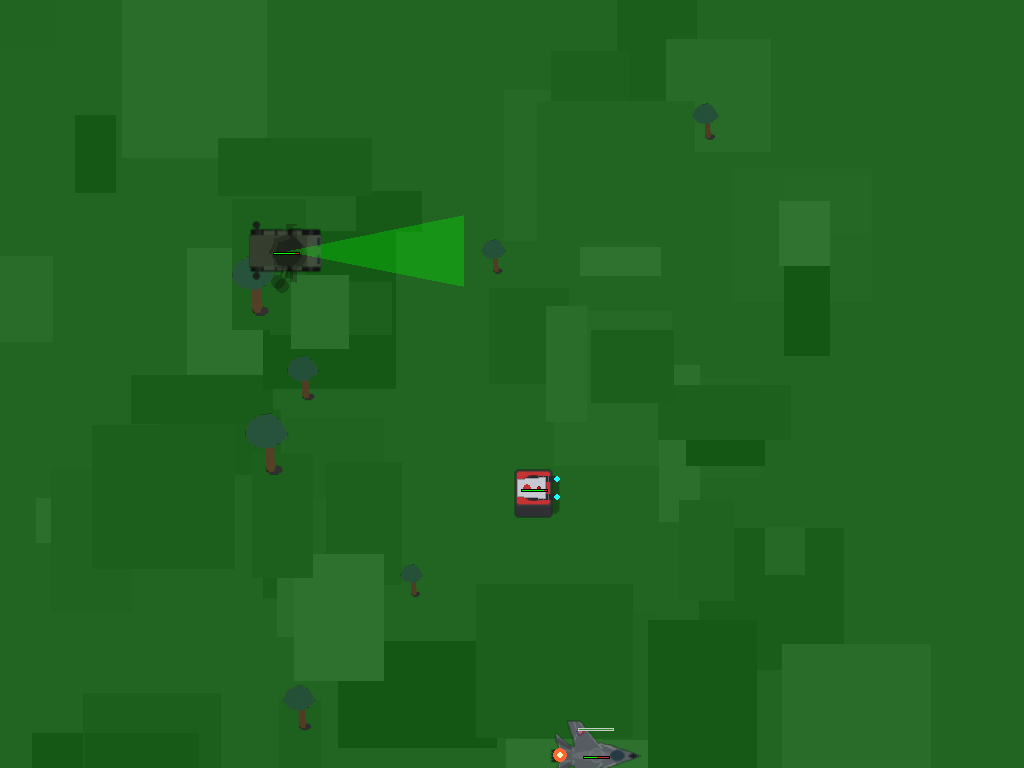AntiAirTurret: (506, 459, 563, 516)
FighterJet_usa: (572, 731, 620, 768)
RadarBuilding: (244, 209, 328, 293)
